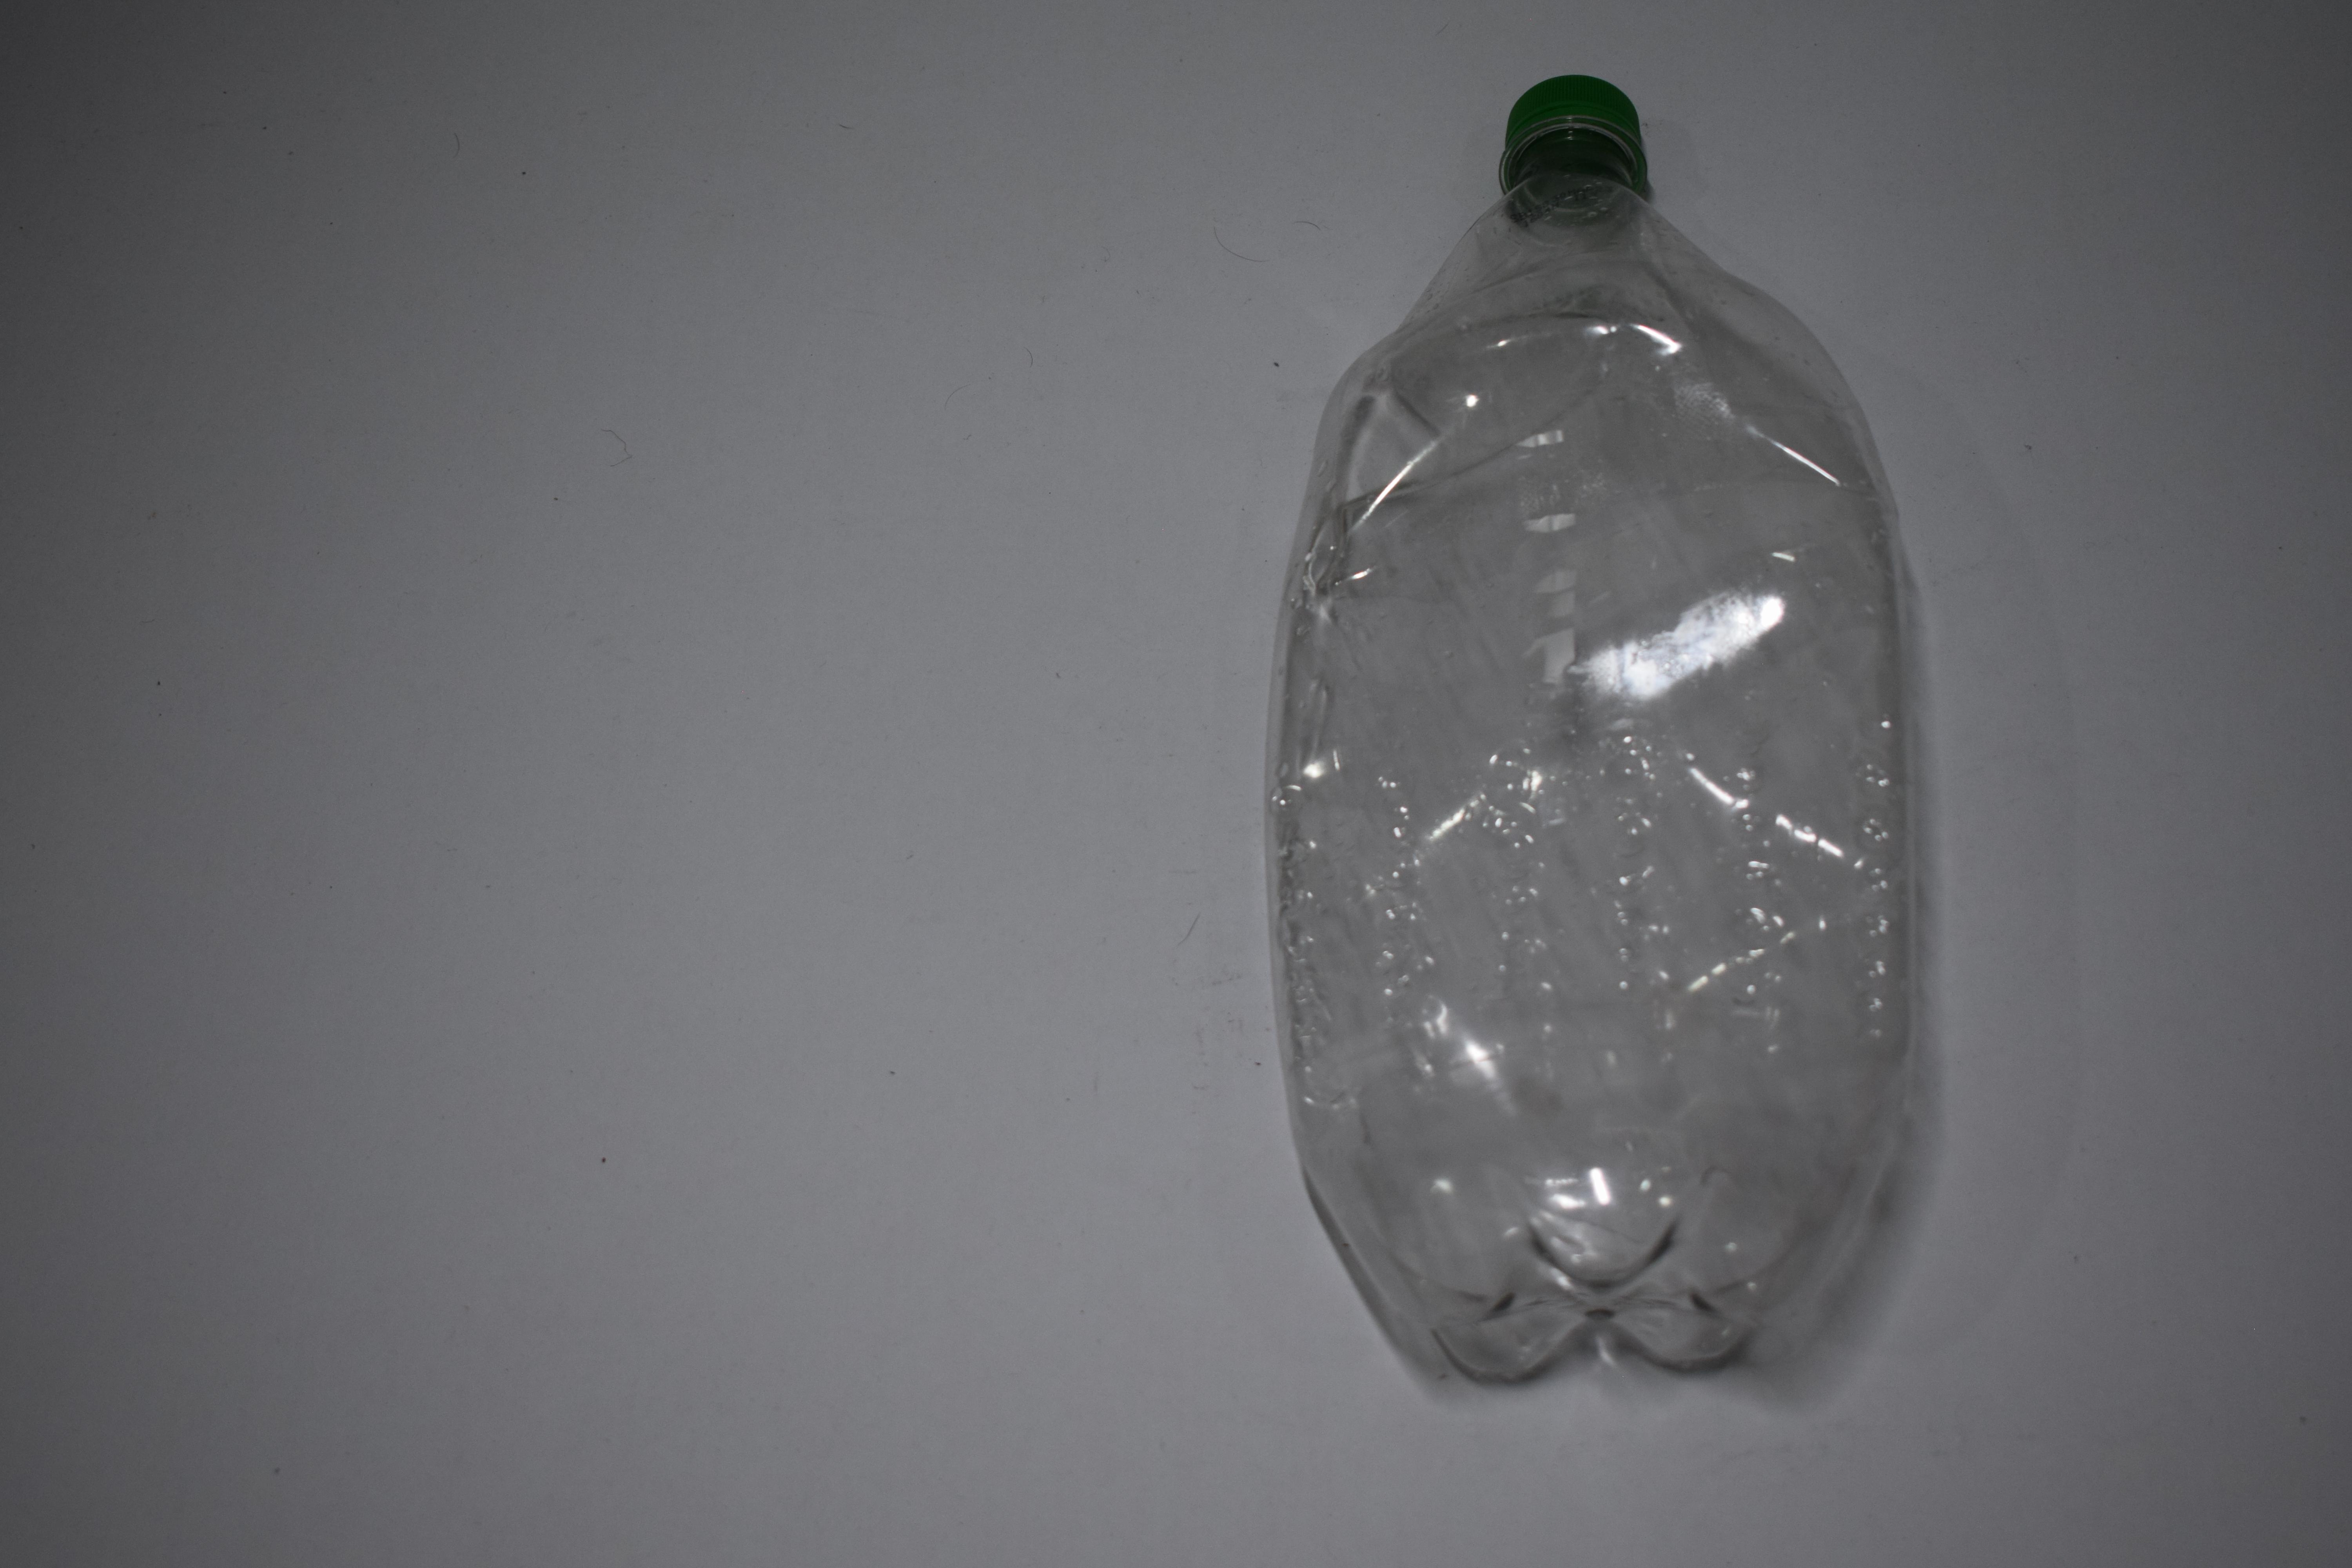bottle: (1270, 70, 1937, 1398)
